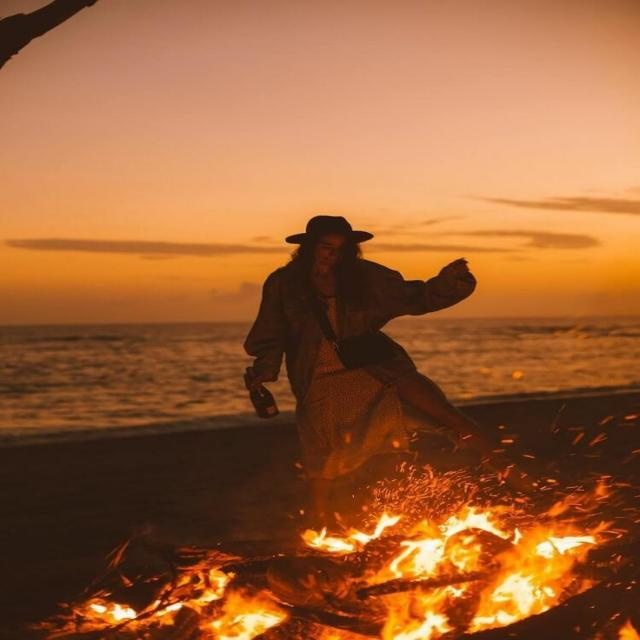Fire: (28, 530, 604, 636)
